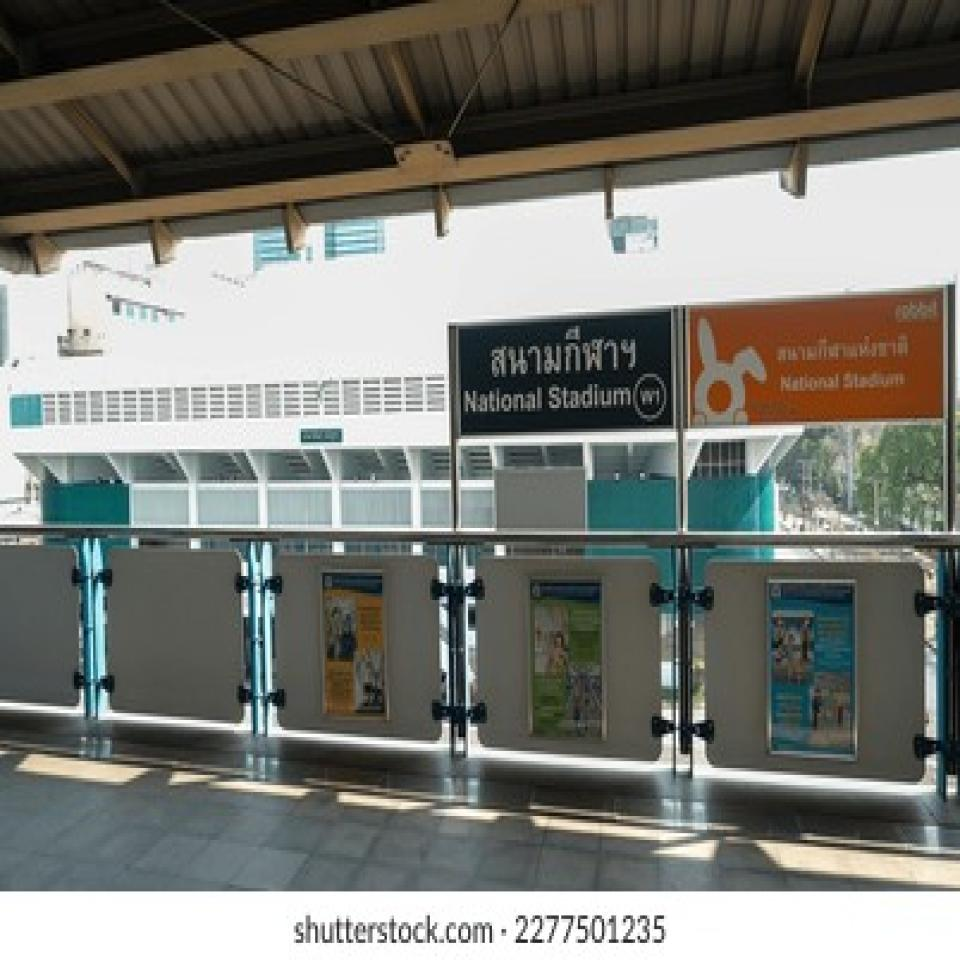signage: (684, 283, 950, 434), (455, 304, 678, 440)
